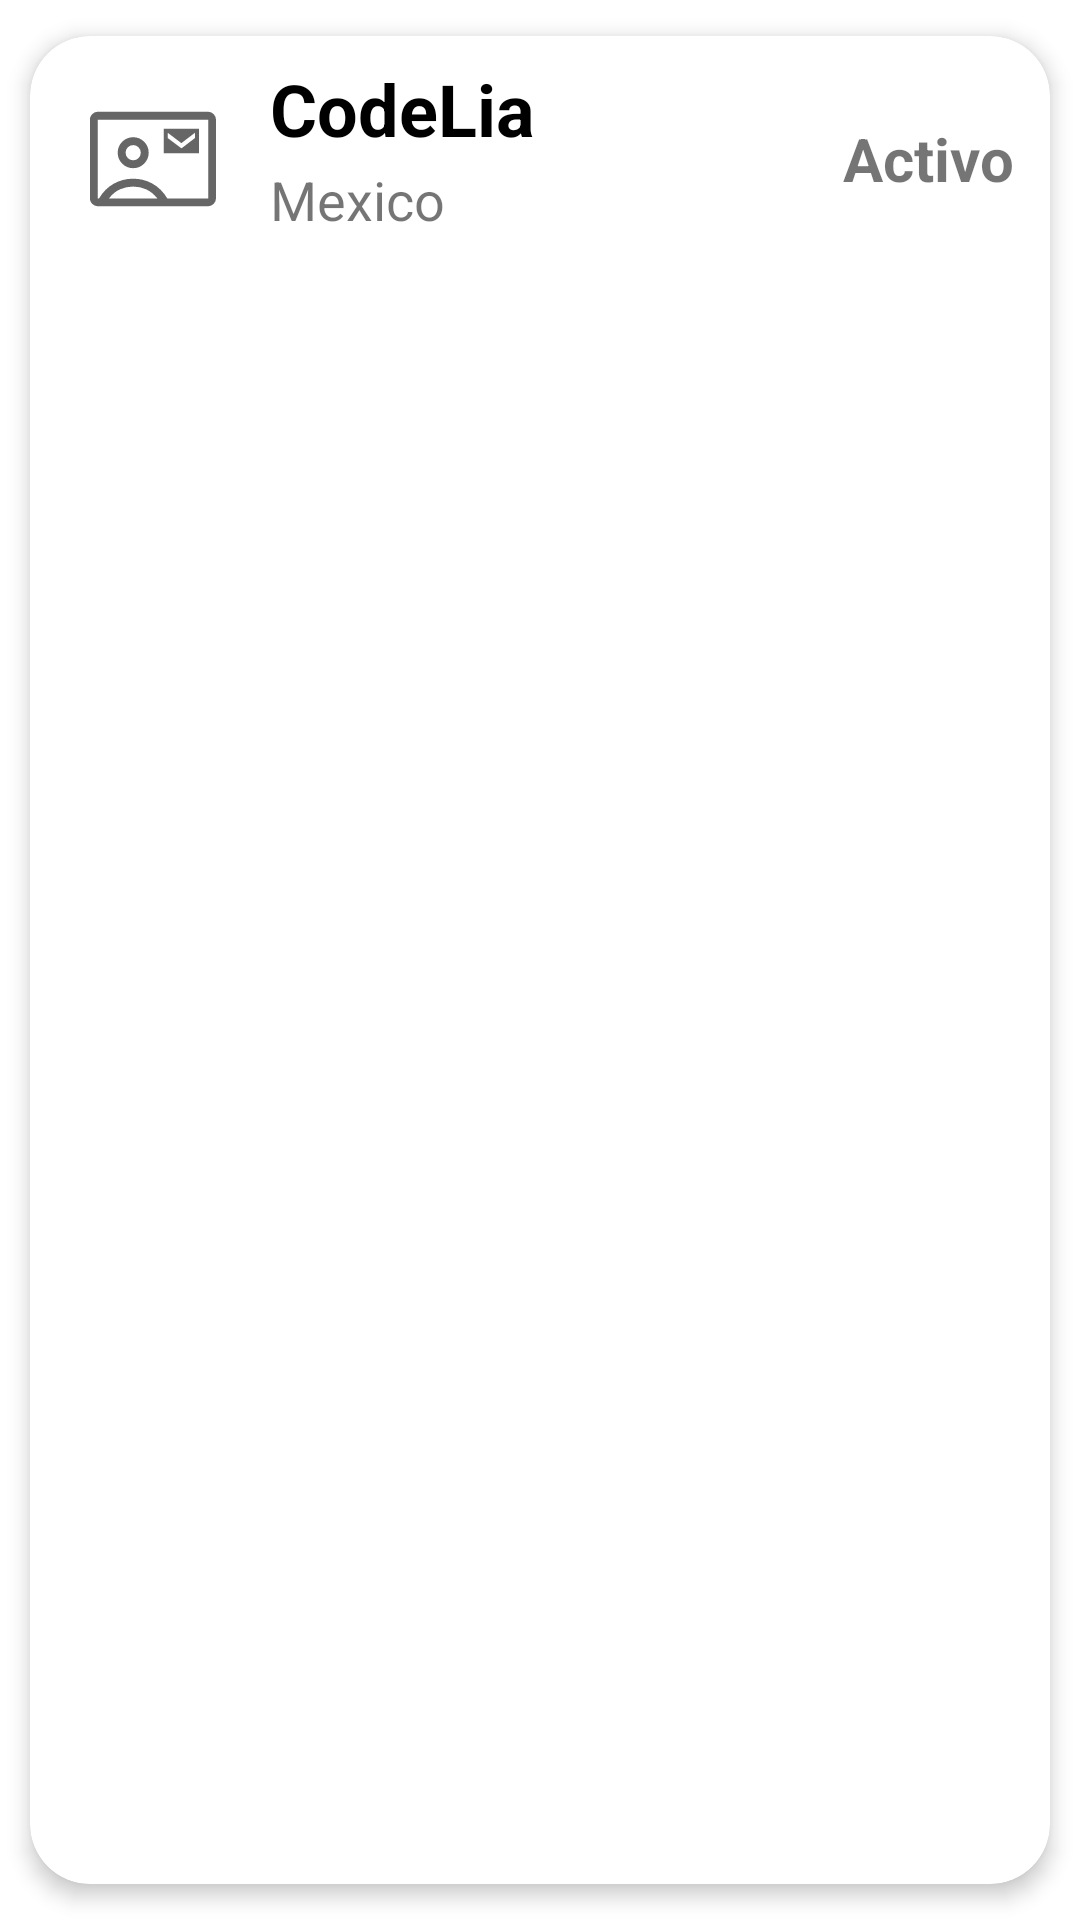

Icons on this 1080px x 1920px Android screen, each with the point to tap as point (x, y):
mail: point (153, 159)
